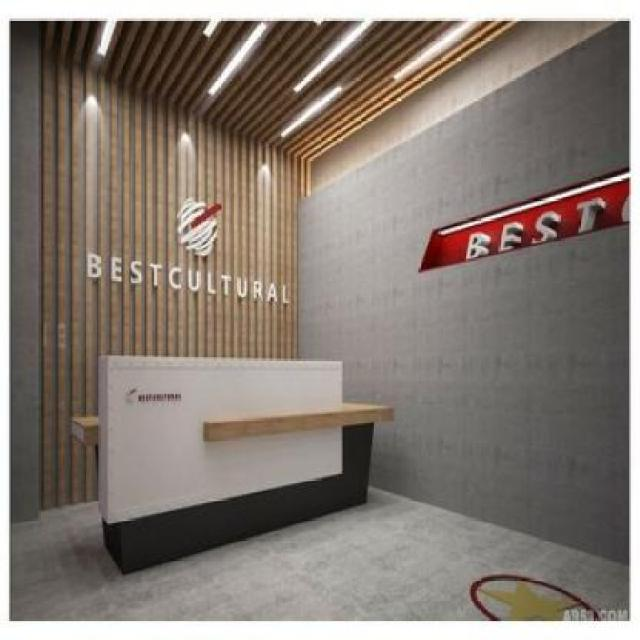frontdesk: (62, 337, 396, 583)
